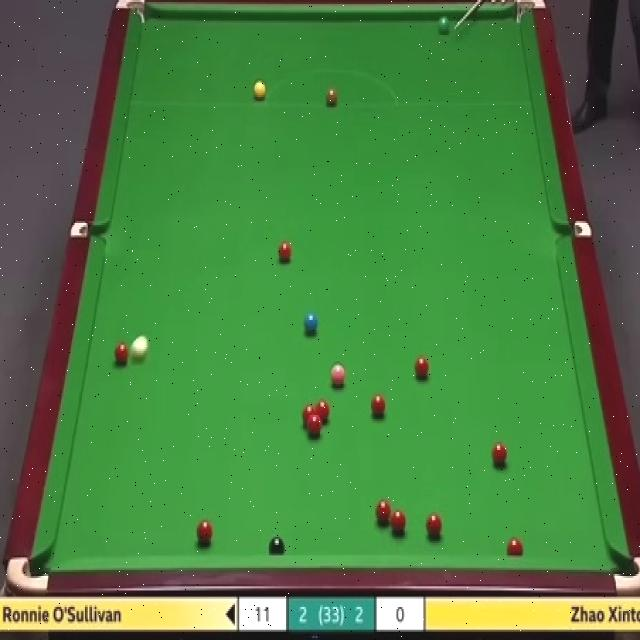black-ball: (268, 533, 286, 557)
blue-ball: (302, 312, 318, 337)
brown-ball: (324, 85, 338, 108)
green-ball: (436, 16, 452, 35)
pink-ball: (331, 360, 346, 387)
red-ball: (390, 507, 407, 539), (413, 354, 431, 384), (375, 498, 392, 526), (425, 513, 442, 540), (490, 441, 506, 467), (370, 393, 386, 419), (197, 518, 213, 544), (316, 400, 331, 426), (277, 240, 293, 264), (114, 343, 129, 367), (507, 536, 524, 557), (302, 404, 316, 426), (308, 417, 321, 438)
white-ball: (130, 336, 148, 362)
yellow-ball: (251, 80, 266, 100)
